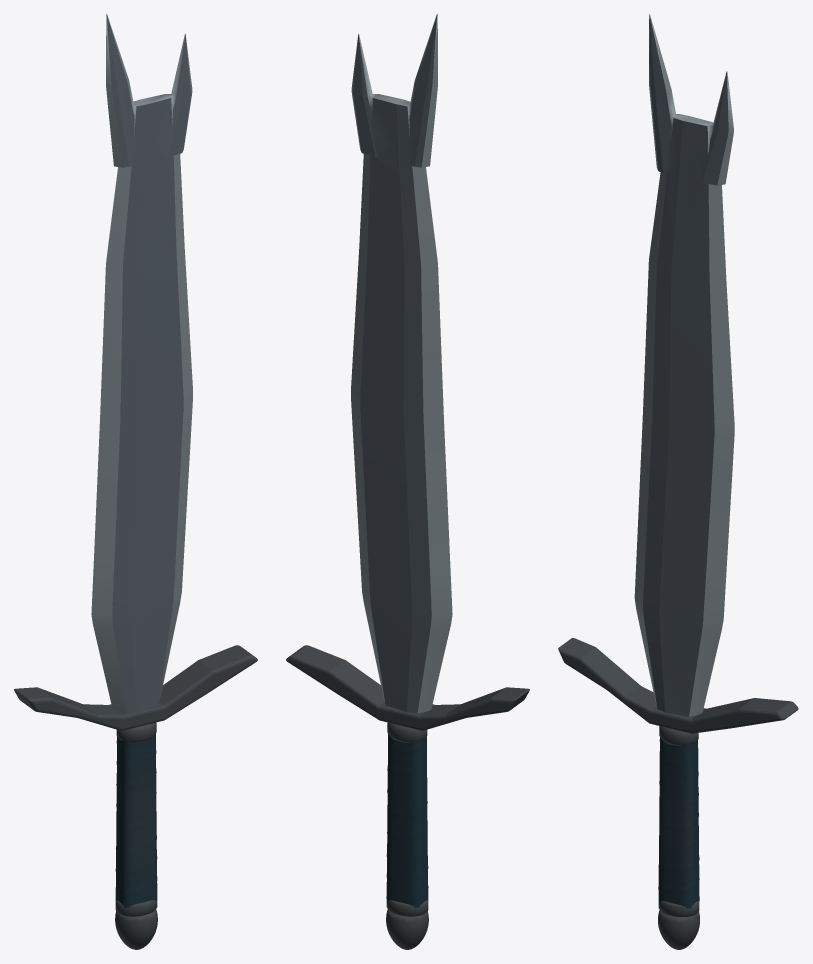
File: skybreaker.glb
3 renders of one model, left to right at view 1: azimuth 30°, elevation 25°; view 2: azimuth 150°, elevation 25°; view 3: azimuth 330°, elevation 25°, orthographic.
Visible parts, largest first — view 1: skybreaker_Baked.001 export; view 2: skybreaker_Baked.001 export; view 3: skybreaker_Baked.001 export.
Part boxes in pixels (x1,y1,x2,y2): skybreaker_Baked.001 export: (14, 14, 257, 949); skybreaker_Baked.001 export: (286, 14, 529, 949); skybreaker_Baked.001 export: (558, 14, 798, 949).
Bounding box in the file's own units: 0.316 × 1.24 × 0.051.
Materials: 1 (1 with a texture image).
